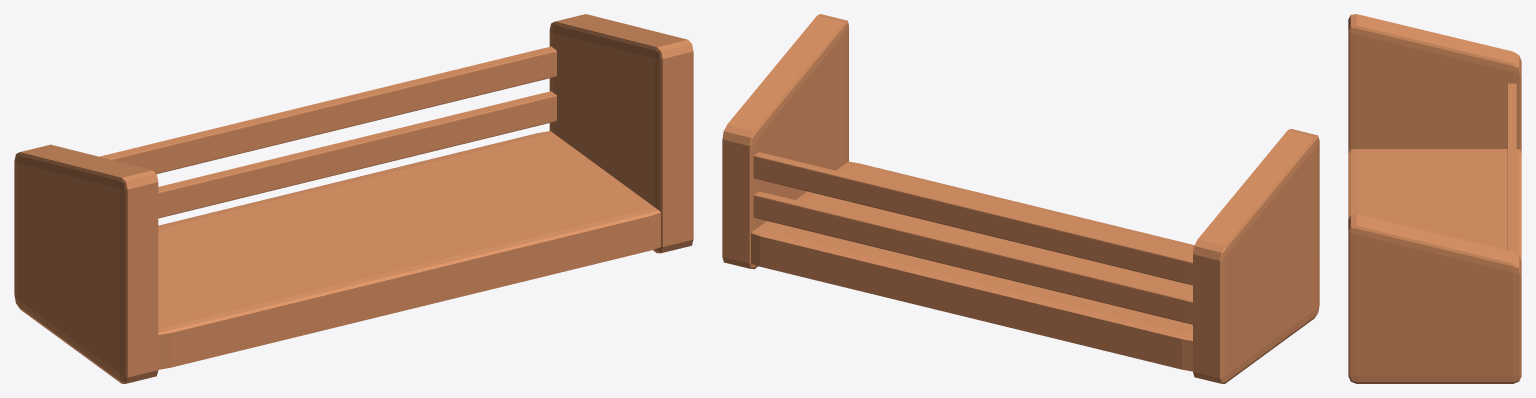
Rendered from Wall_bookshelf.obj.
3 renders of one model, left to right at view 1: azimuth 30°, elevation 25°; view 2: azimuth 150°, elevation 25°; view 3: azimuth 270°, elevation 25°, orthographic. The views are drawn at different scales.
Parts seen in each view (by area): view 1: Wall_bookshelf_Cube.014; view 2: Wall_bookshelf_Cube.014; view 3: Wall_bookshelf_Cube.014.
Boxes of the visible parts, box(x1,y1,x2,y2) form: Wall_bookshelf_Cube.014: box(14, 14, 693, 383); Wall_bookshelf_Cube.014: box(722, 14, 1319, 383); Wall_bookshelf_Cube.014: box(1348, 14, 1521, 383).
Bounding box in the file's own units: 2.45 × 0.8474 × 0.8425.
